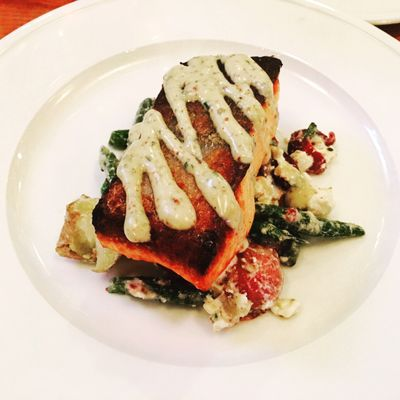curry: (250, 204, 364, 267)
